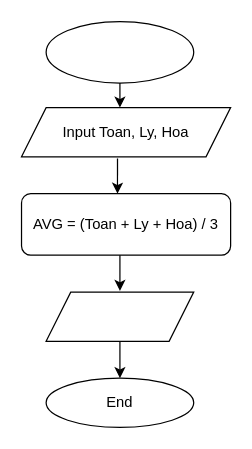
The diagram is 252 pixels wide and 449 high, and some of its shapes have lost their labels. The shapes that lost their labels are listed below. From the top down, each one's centre as x and y in pixels, then its label:
At pixel 119 51: "Begin".
At pixel 119 316: "Display AVG".
